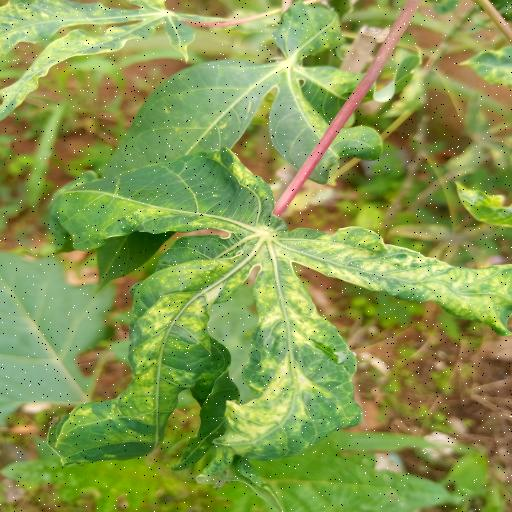Cassava_Mosaic: (37, 148, 512, 474)
